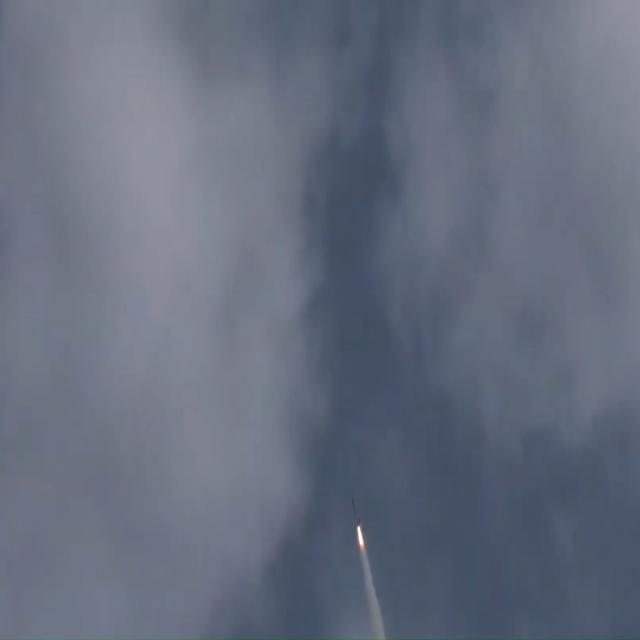Rocket: (351, 495, 363, 529)
